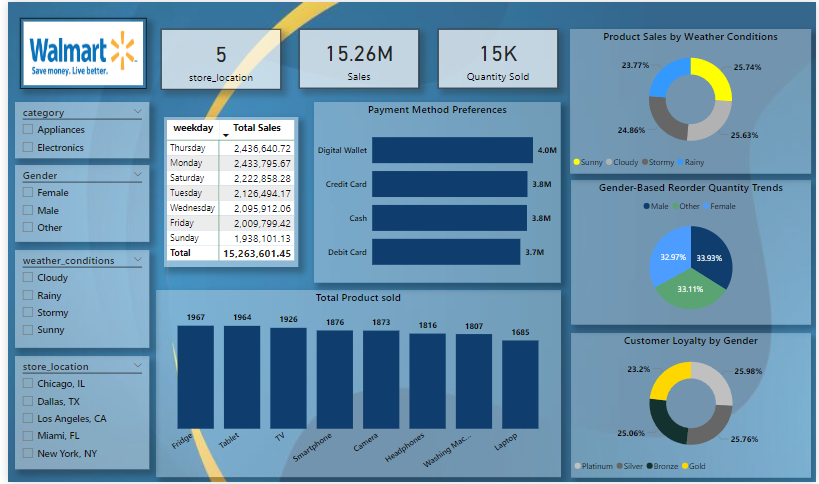

This screenshot's page, from the dashboard's own definition file:
{"tool":"powerbi","page":{"name":"Page 1","canvas":[1346,800],"ordinal":0},"visuals":[{"type":"donutChart","title":"Customer Loyalty by Gender","fields":{"Category":["Walmart.customer_loyalty_level"],"Y":["CountNonNull(Walmart.customer_gender)"]},"box":[938.2,551.2,400,240.7],"z":0},{"type":"card","fields":{"Values":["Walmart.Total Sales"]},"box":[484.6,45.5,200,99.2],"z":1000},{"type":"card","fields":{"Values":["Sum(Walmart.quantity_sold)"]},"box":[717.1,45.5,200,99.2],"z":2000},{"type":"columnChart","title":"Total Product sold","fields":{"Category":["Walmart.product_name"],"Y":["Sum(Walmart.quantity_sold)"]},"box":[247.2,479.7,674.8,312.2],"z":3000},{"type":"pieChart","title":"Gender-Based Reorder Quantity Trends","fields":{"Category":["Walmart.customer_gender"],"Y":["Sum(Walmart.reorder_quantity)"]},"box":[938.2,295.9,400,240.7],"z":4000},{"type":"donutChart","title":"Product Sales by Weather Conditions","fields":{"Y":["Sum(Walmart.quantity_sold)"],"Category":["Walmart.weather_conditions"]},"box":[936.6,45.5,401.6,240.7],"z":5000},{"type":"card","fields":{"Values":["Count(Walmart.store_location)"]},"box":[255.3,45.5,200,100.8],"z":6000},{"type":"barChart","title":"Payment Method Preferences","fields":{"Category":["Walmart.payment_method"],"Y":["Walmart.Total Sales"]},"box":[510.6,165.9,411.4,300.8],"z":7000},{"type":"pivotTable","fields":{"Rows":["Walmart.weekday"],"Values":["Walmart.Total Sales"]},"box":[260.2,191.9,224.4,250.4],"z":8000},{"type":"slicer","fields":{"Values":["Walmart.category"]},"box":[11.4,165.9,224.4,94.3],"z":9000},{"type":"slicer","fields":{"Values":["Walmart.store_location"]},"box":[11.4,590.2,224.4,188.6],"z":10000},{"type":"slicer","fields":{"Values":["Walmart.weather_conditions"]},"box":[11.4,413,224.4,162.6],"z":11000},{"type":"slicer","fields":{"Values":["Walmart.customer_gender"]},"box":[11.4,271.5,224.4,128.5],"z":12000},{"type":"image","box":[20.8,27.2,211.2,118.4],"z":13000}]}

Visuals, with their boxes in screenshot pixels (x1, y1, x2, y2), scaled from the page's 1346x800 canvas onto the 819x484 screenshot:
"Customer Loyalty by Gender" donutChart: l=571, t=333, r=814, b=479
card - Walmart.Total Sales: l=295, t=28, r=417, b=88
card - Sum(Walmart.quantity_sold): l=436, t=28, r=558, b=88
"Total Product sold" columnChart: l=150, t=290, r=561, b=479
"Gender-Based Reorder Quantity Trends" pieChart: l=571, t=179, r=814, b=325
"Product Sales by Weather Conditions" donutChart: l=570, t=28, r=814, b=173
card - Count(Walmart.store_location): l=155, t=28, r=277, b=89
"Payment Method Preferences" barChart: l=311, t=100, r=561, b=282
pivotTable - Walmart.weekday x Walmart.Total Sales: l=158, t=116, r=295, b=268
slicer - Walmart.category: l=7, t=100, r=143, b=157
slicer - Walmart.store_location: l=7, t=357, r=143, b=471
slicer - Walmart.weather_conditions: l=7, t=250, r=143, b=348
slicer - Walmart.customer_gender: l=7, t=164, r=143, b=242
image: l=13, t=16, r=141, b=88
